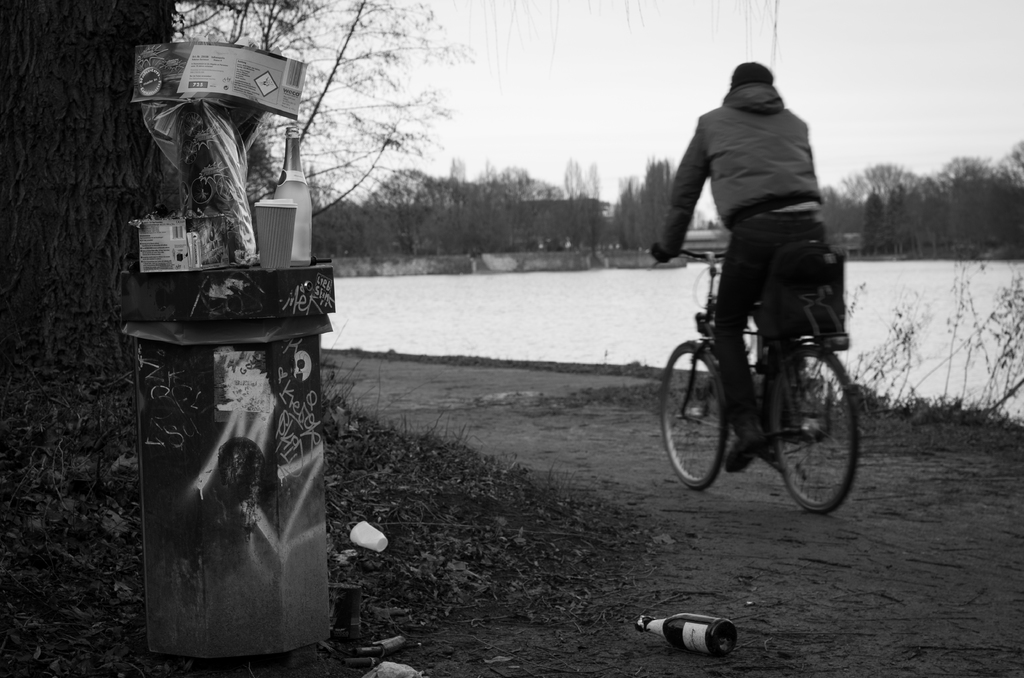Bike_away: (620, 247, 907, 531)
